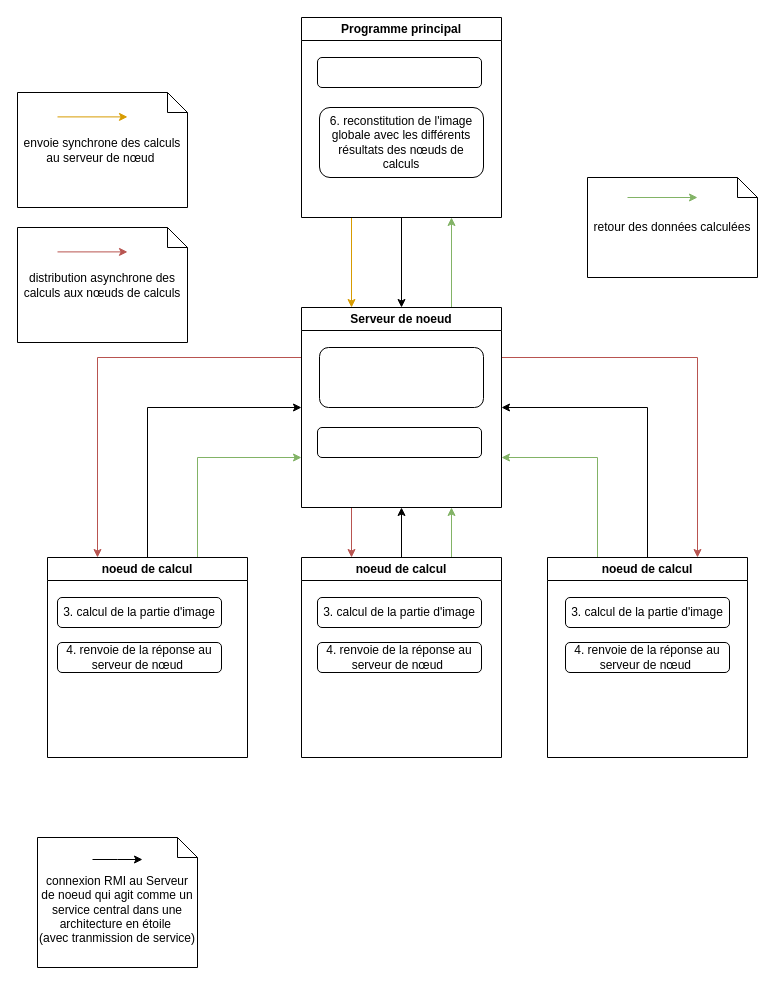
Image size: 775x985. Some labels were removed from this diagram. Here are the shapes that lost their labels. From the top down, the centre of each, then its label:
(x=399, y=72): 1. découpe l'image
(x=401, y=377): 2. distribution des parties de l'image à tous les nœuds de calculs disponibles
(x=399, y=442): 5. renvoie des réponses au programme principal
